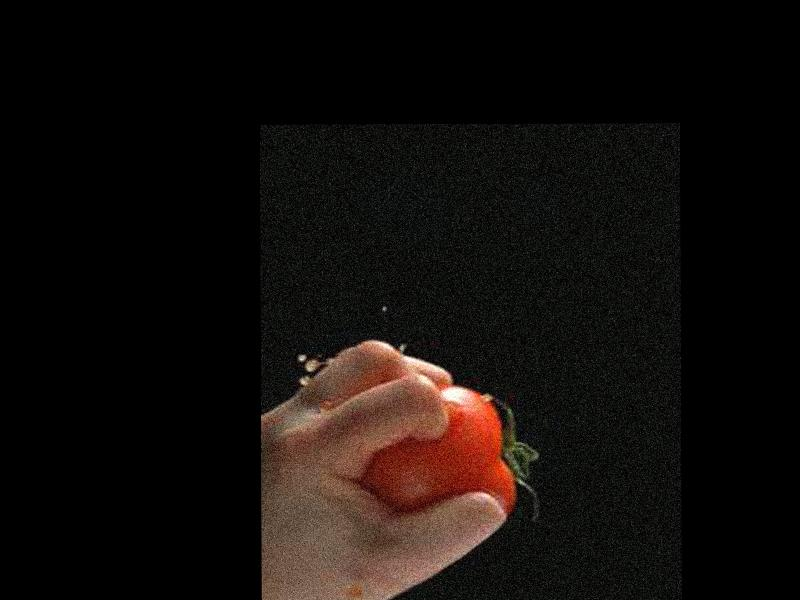Tomato: (363, 386, 516, 516)
